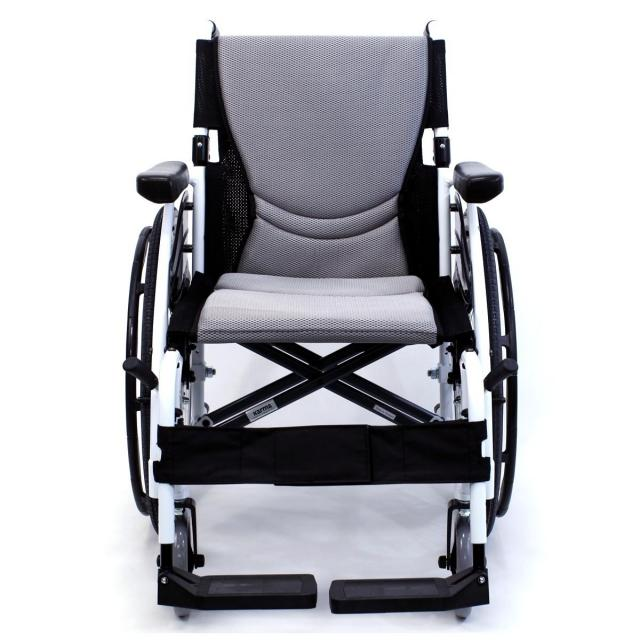wheelchair: (91, 12, 537, 638)
